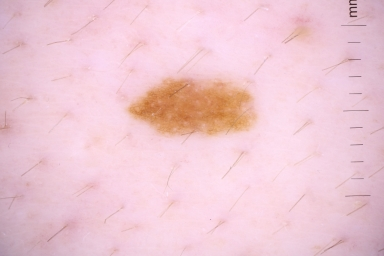melanoma: (120, 65, 273, 143)
